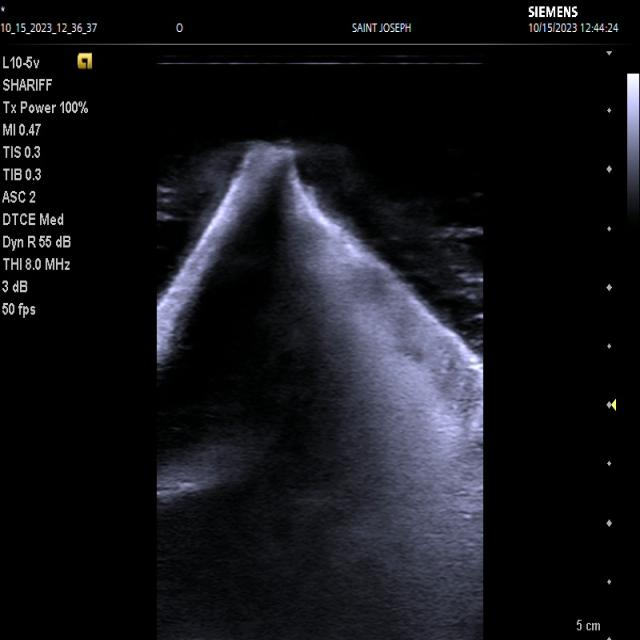tissue: (157, 146, 484, 640)
